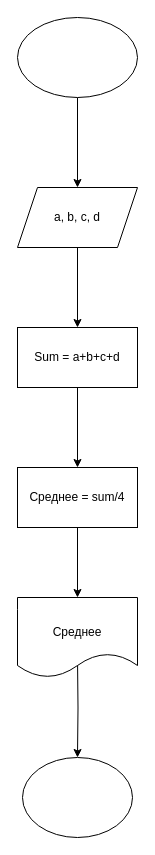
Some shapes in this 155 by 855 pixel diagram are drawn without their labels. The box of each missing label's shape, as (x1, y1, x2, y2) in pixels:
Конец: (22, 756, 132, 838)
Начало: (16, 16, 138, 98)
